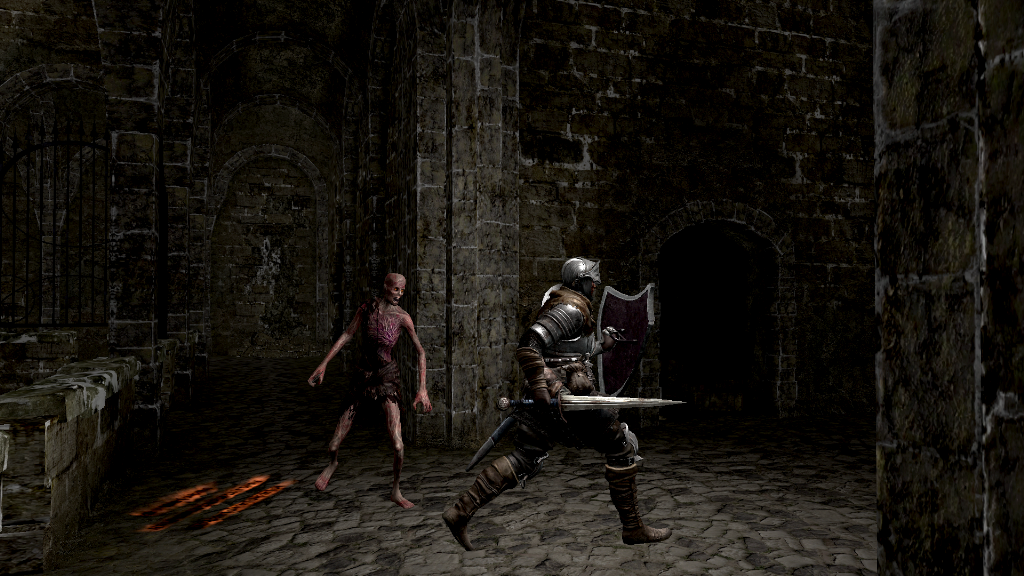hollow: (308, 272, 434, 508)
player: (440, 253, 691, 553)
